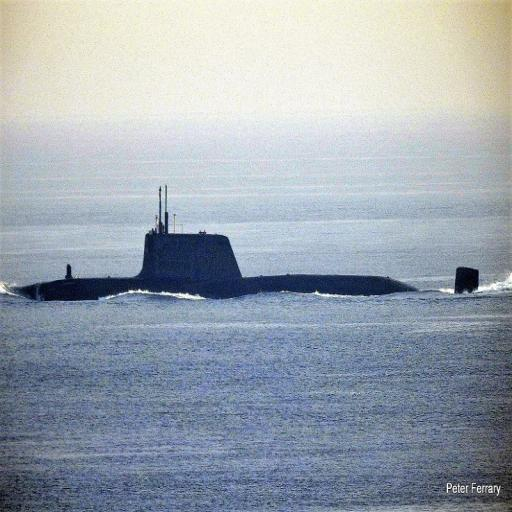submarine: (2, 234, 482, 306)
